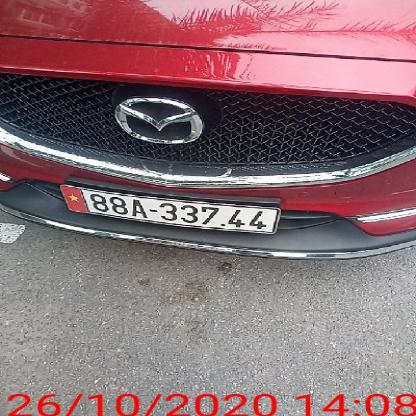biensoxe: (56, 182, 283, 240)
